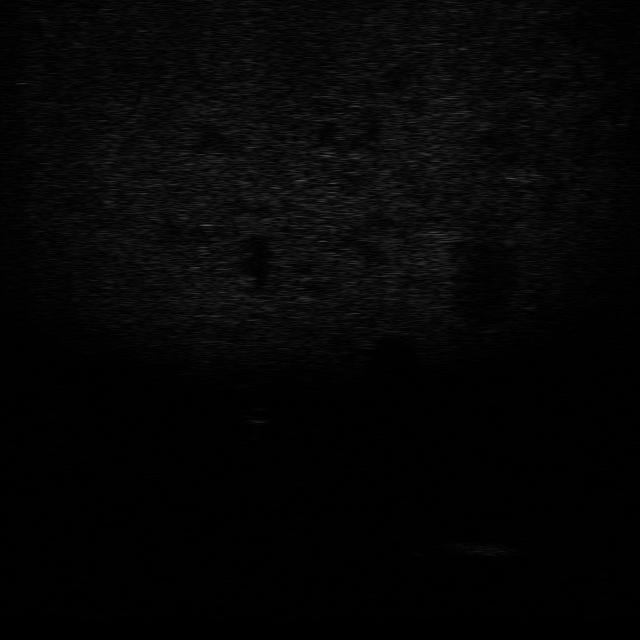ball: (238, 405, 274, 426)
metal bucket: (440, 540, 514, 558)
tyre: (371, 522, 430, 562)
